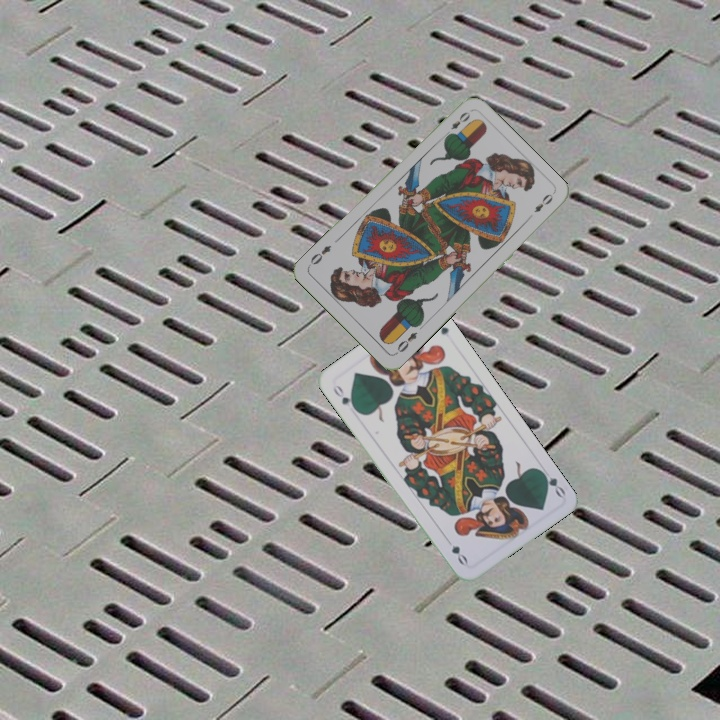EO: (440, 107, 473, 140), (391, 328, 420, 357)
GO: (536, 463, 568, 500), (329, 381, 360, 414)
